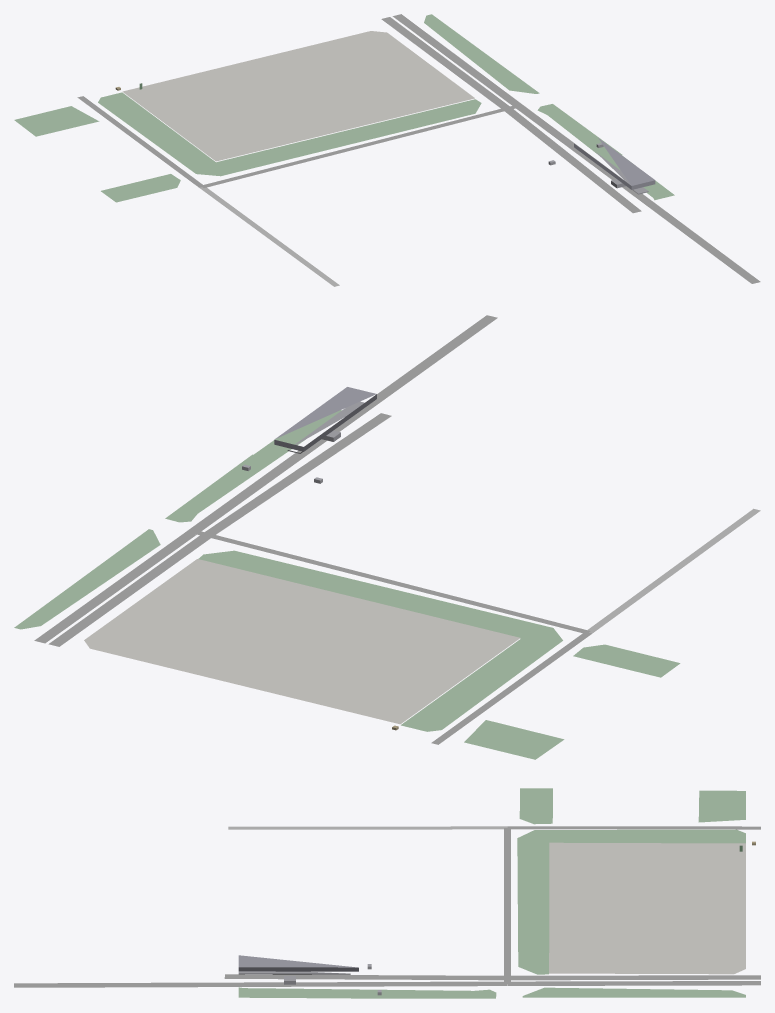
3 renders of one model, top to bottom at view 1: azimuth 30°, elevation 25°; view 2: azimuth 150°, elevation 25°; view 3: azimuth 270°, elevation 25°, orthographic. The views are drawn at different scales.
Size of the model in its own units: 500 by 26.47 by 736.
